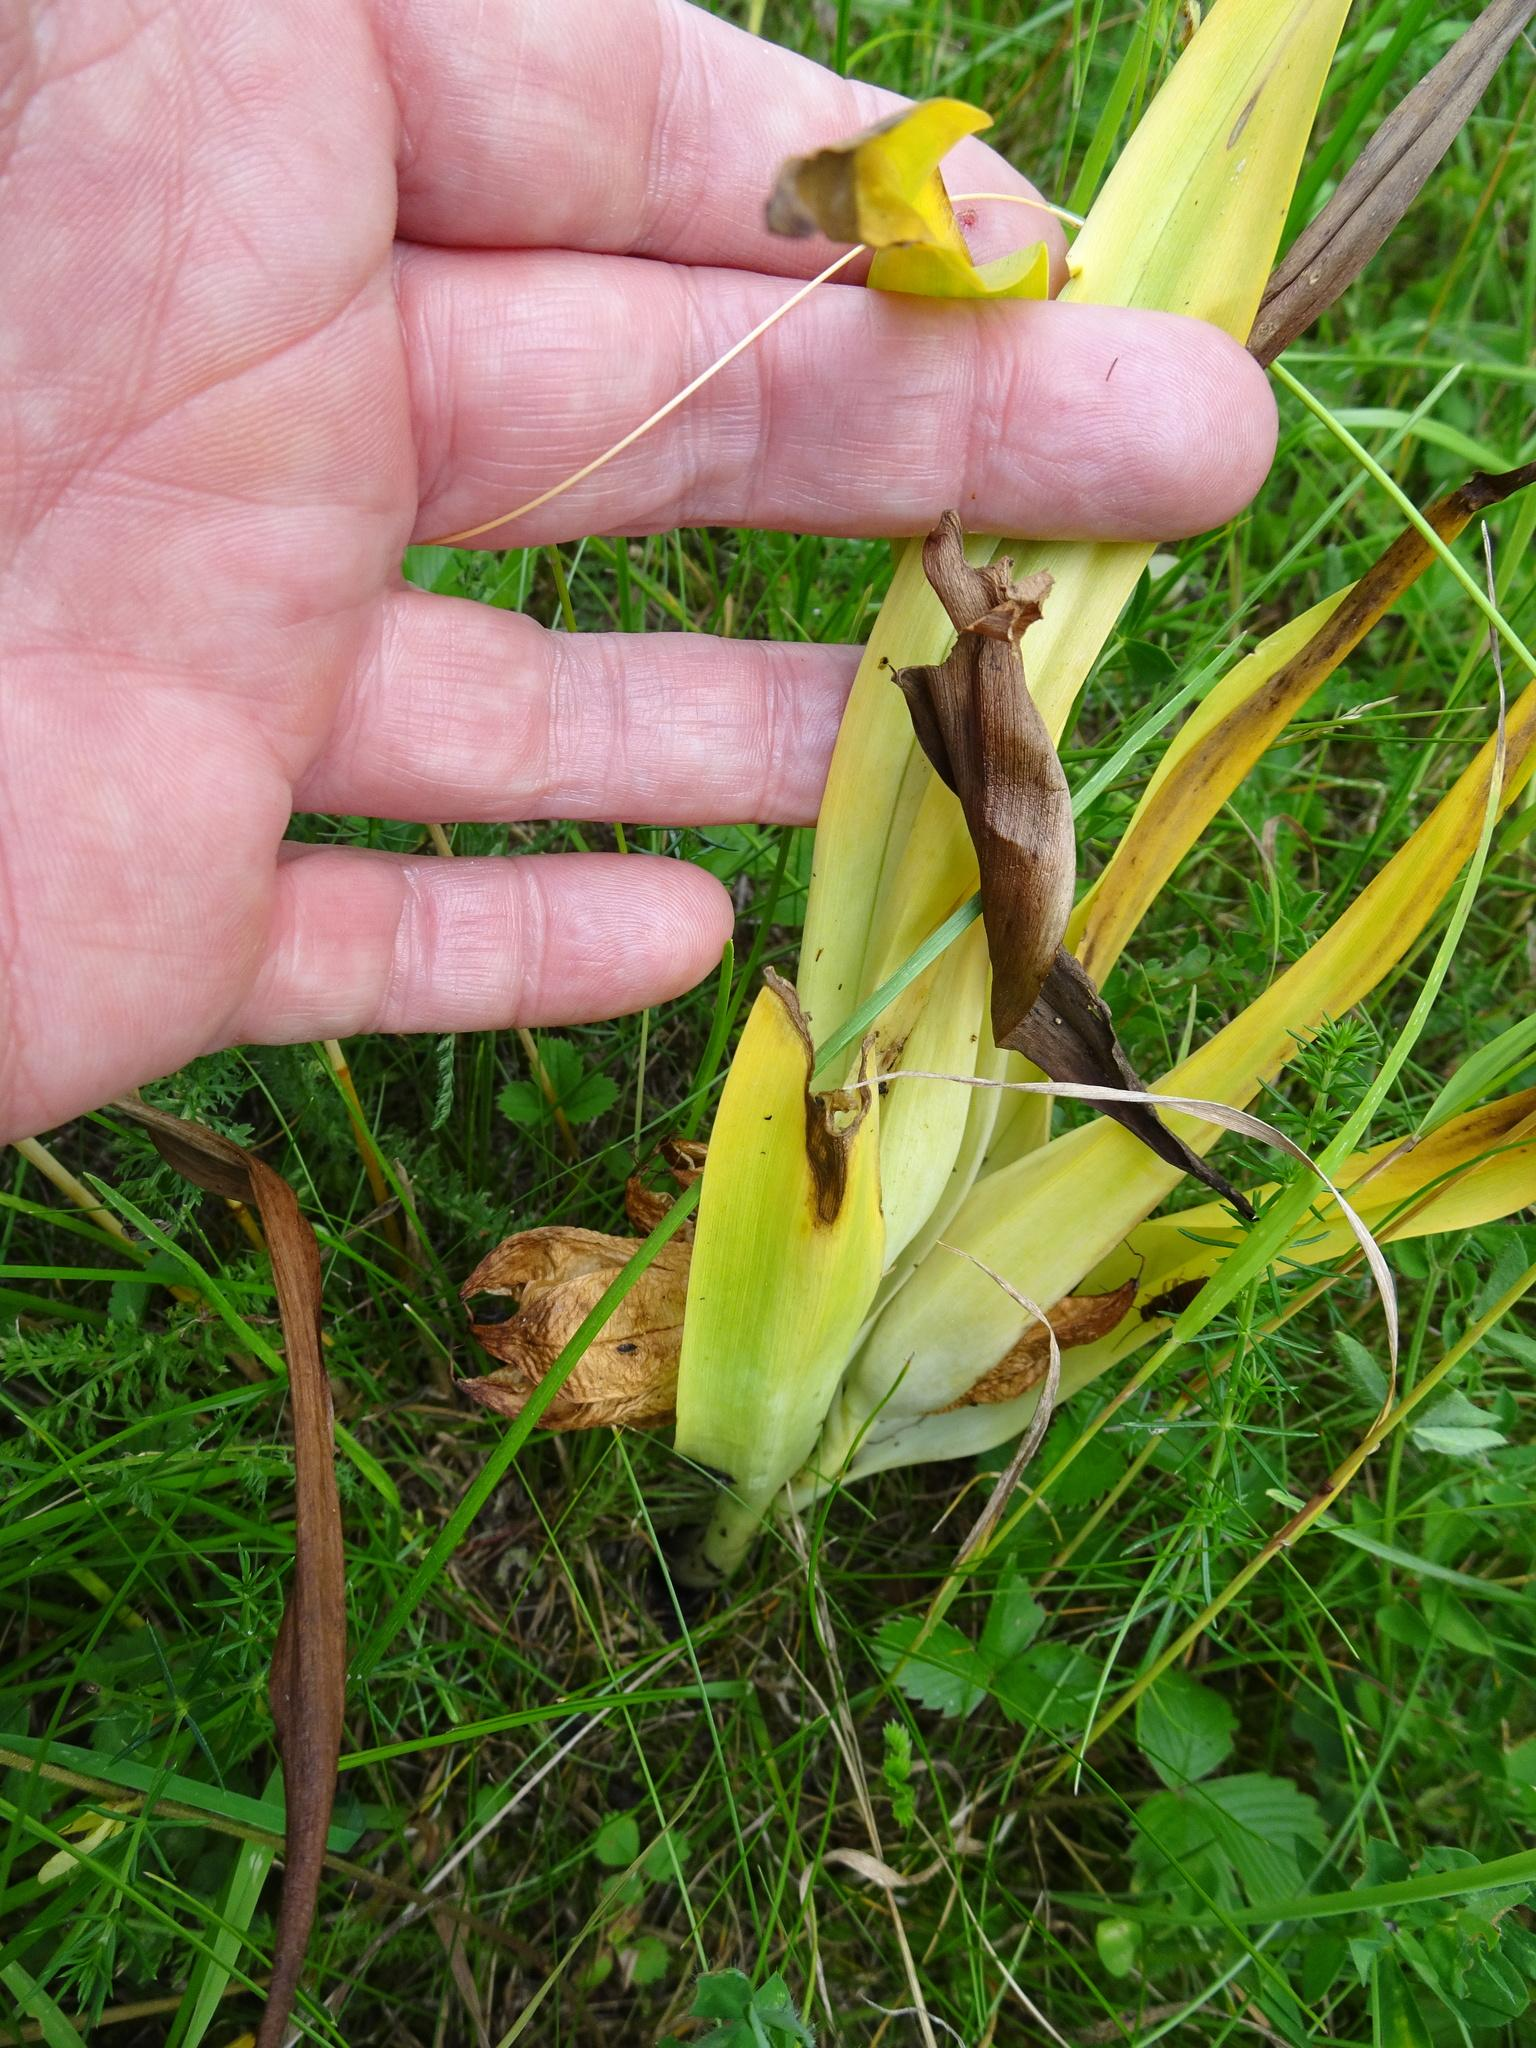Colchicum autumnale L: (372, 8, 1528, 1616)
